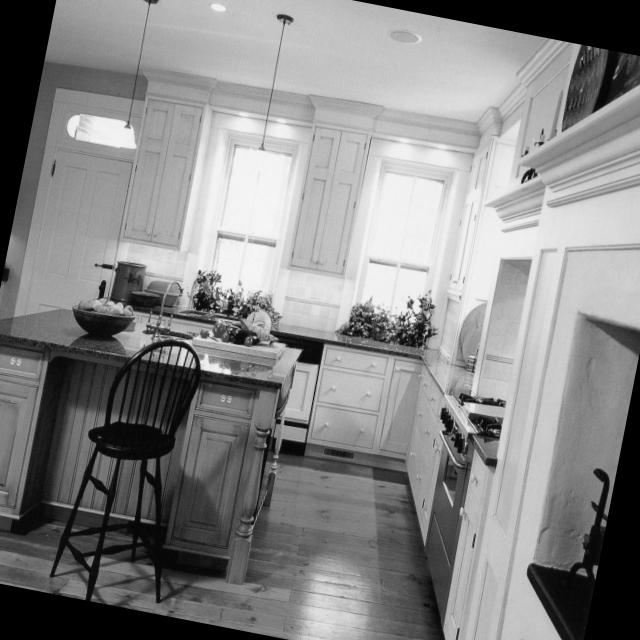2001: (334, 133, 473, 348), (214, 128, 300, 291)
cabinet door: (115, 91, 209, 245), (288, 119, 369, 273)
chair -occluded-: (55, 335, 201, 601)
drawer handle: (316, 359, 383, 409)
fruit plate: (68, 284, 131, 332)
lamp crop: (71, 112, 131, 146)
oven cloth: (422, 393, 476, 624)
